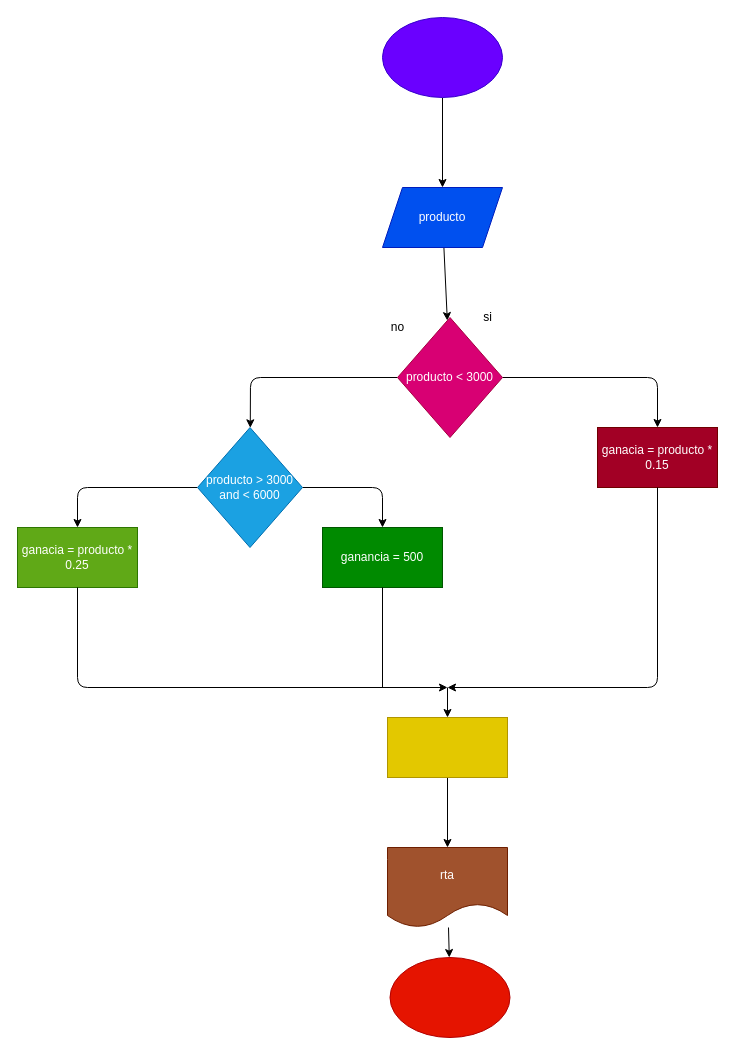
Image size: 735x1055. Some labels were removed from this diagram. Each missing label, with the centre of its shape:
"FIN" belongs at pixel 449 997.
"INICIO" belongs at pixel 442 57.
"rta = ganancia + producto" belongs at pixel 447 747.
